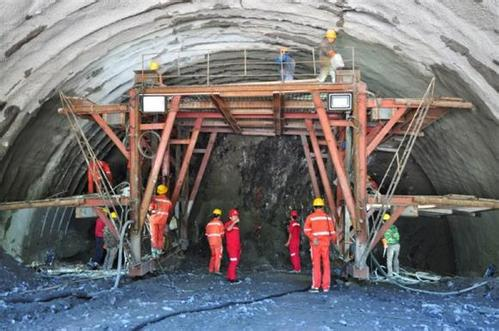helmet: (309, 194, 327, 214), (151, 182, 169, 199), (226, 205, 242, 224), (208, 205, 224, 223), (324, 26, 338, 45), (288, 207, 300, 222)
